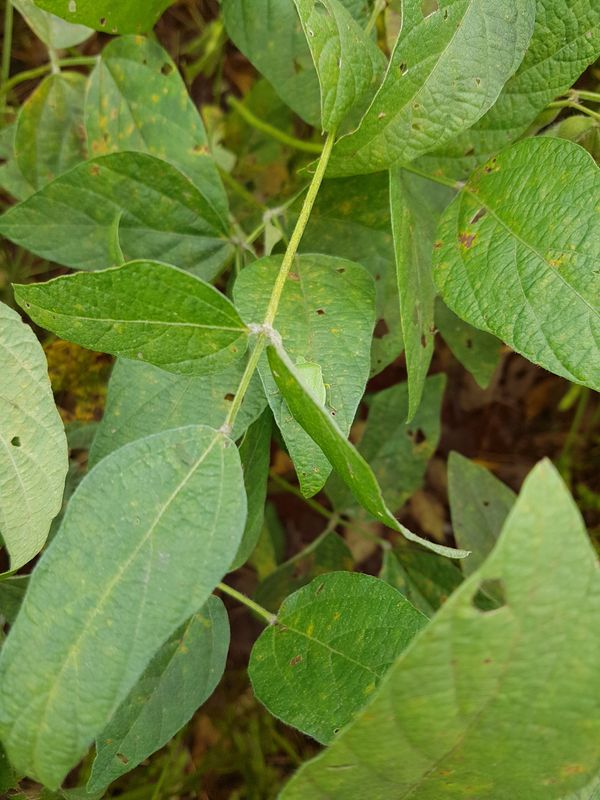Nezara_viridula_adulto: (273, 342, 345, 432)
